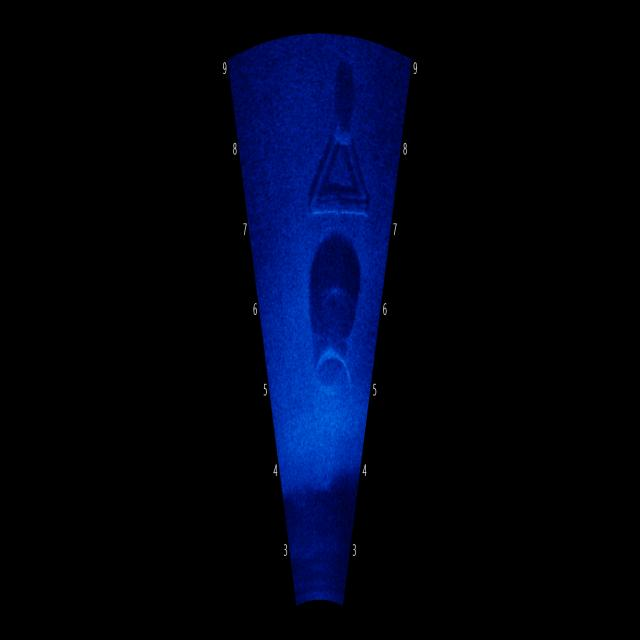circle: (304, 324, 358, 447)
triangle: (292, 80, 377, 241)
